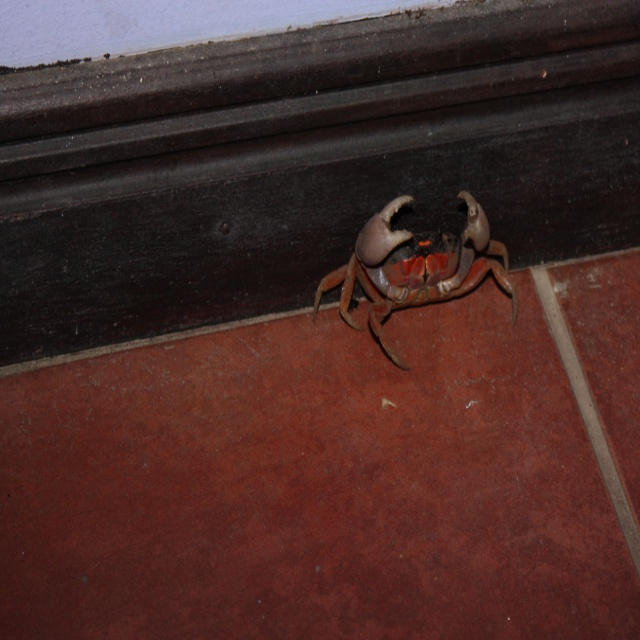Crab: (322, 182, 518, 368)
